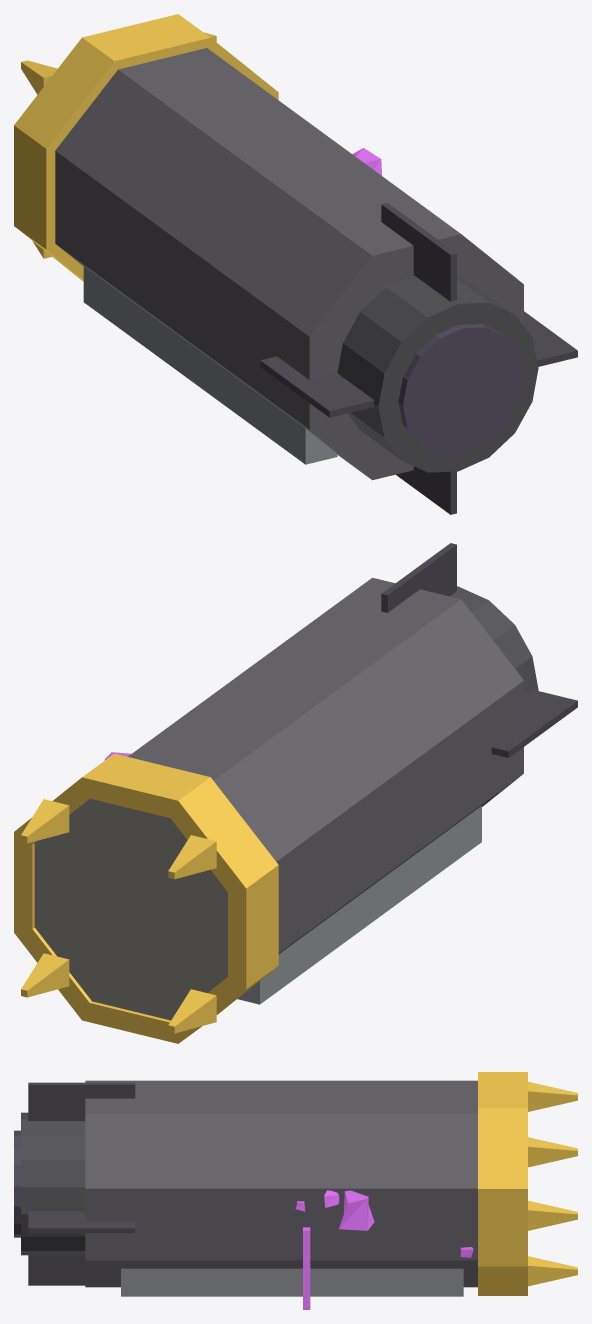
File: ship_XS_POD.glb
3 views of the same model, one above another, from view 1: azimuth 30°, elevation 25°; view 2: azimuth 150°, elevation 25°; view 3: azimuth 270°, elevation 25° (orthographic). The views are drawn at different scales.
Visible parts, largest first — view 1: XS_POD_Hull-col, XS_POD_Engines, XS_POD_Hazard, XS_POD_EngineGlow, XS_POD_Trim, XS_POD_Interior-col; view 2: XS_POD_Hull-col, XS_POD_Hatch-col, XS_POD_Hazard, XS_POD_Interior-col, XS_POD_Trim, XS_POD_Engines; view 3: XS_POD_Hull-col, XS_POD_Hazard, XS_POD_Interior-col, XS_POD_Engines, XS_POD_Trim, XS_POD_Growth, XS_POD_EngineGlow.
Boxes of the visible parts, x1,y1,x2,y2 form: XS_POD_Hull-col: (55,48,523,480); XS_POD_Engines: (337,275,538,472); XS_POD_Hazard: (14,14,278,281); XS_POD_EngineGlow: (398,324,522,454); XS_POD_Trim: (260,203,577,514); XS_POD_Interior-col: (83,266,337,464); XS_POD_Hull-col: (128,577,523,953); XS_POD_Hatch-col: (34,798,227,1020); XS_POD_Hazard: (14,753,278,1043); XS_POD_Interior-col: (237,806,481,1004); XS_POD_Trim: (381,543,577,757); XS_POD_Engines: (450,586,538,696); XS_POD_Hull-col: (85,1080,477,1287); XS_POD_Hazard: (478,1072,577,1295); XS_POD_Interior-col: (121,1268,463,1296); XS_POD_Engines: (21,1112,85,1255); XS_POD_Trim: (28,1082,135,1285); XS_POD_Growth: (295,1190,473,1309); XS_POD_EngineGlow: (14,1130,20,1237).
Size of the model in its own units: 3.23 by 3.22 by 7.9.
